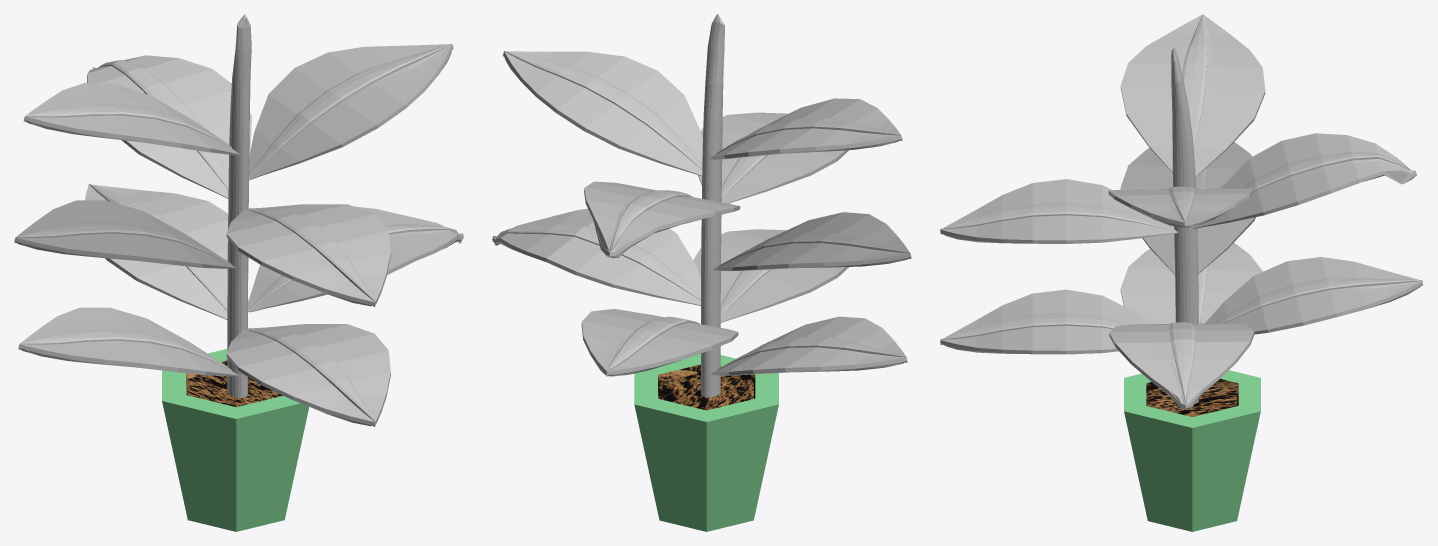
Rendered from Plant.fbx.
3 views of the same model, side by side, from view 1: azimuth 30°, elevation 25°; view 2: azimuth 150°, elevation 25°; view 3: azimuth 270°, elevation 25° (orthographic). The views are drawn at different scales.
Visible parts, largest first — view 1: polySurface12, polySurface2; view 2: polySurface12, polySurface2; view 3: polySurface12, polySurface2.
Boxes of the visible parts, x1,y1,x2,y2 form: polySurface12: (14, 14, 463, 426); polySurface2: (162, 349, 309, 531); polySurface12: (492, 14, 911, 397); polySurface2: (634, 353, 778, 531); polySurface12: (940, 14, 1423, 409); polySurface2: (1124, 370, 1260, 531).
Bounding box in the file's own units: 12.03 × 13.09 × 12.4.
